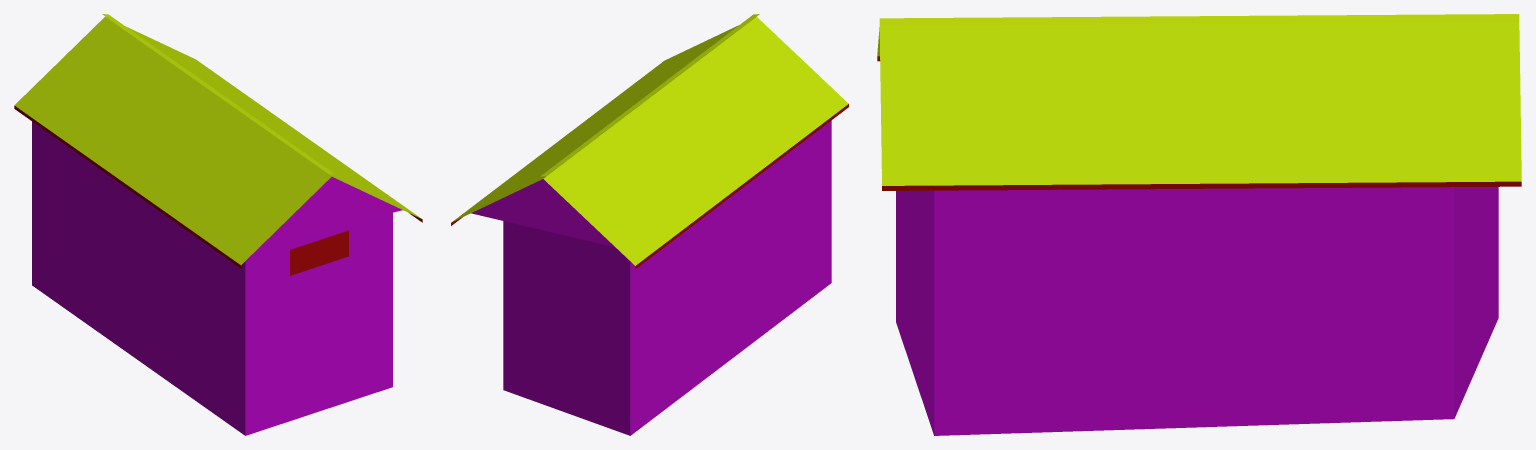
File: ces_17.glb
The picture shows the model from 3 angles, left to right: view 1: azimuth 30°, elevation 25°; view 2: azimuth 150°, elevation 25°; view 3: azimuth 270°, elevation 25°; orthographic projection. The views are drawn at different scales.
Visible parts, largest first — view 1: ces_17; view 2: ces_17; view 3: ces_17.
Boxes of the visible parts, x1=… form: ces_17: x1=14, y1=14, x2=422, y2=435; ces_17: x1=451, y1=14, x2=848, y2=435; ces_17: x1=877, y1=14, x2=1521, y2=435.
Bounding box in the file's own units: 6.85 × 8.55 × 13.93.
